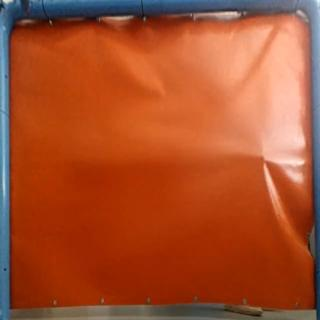Hit-hRxx: (256, 152, 273, 170)
